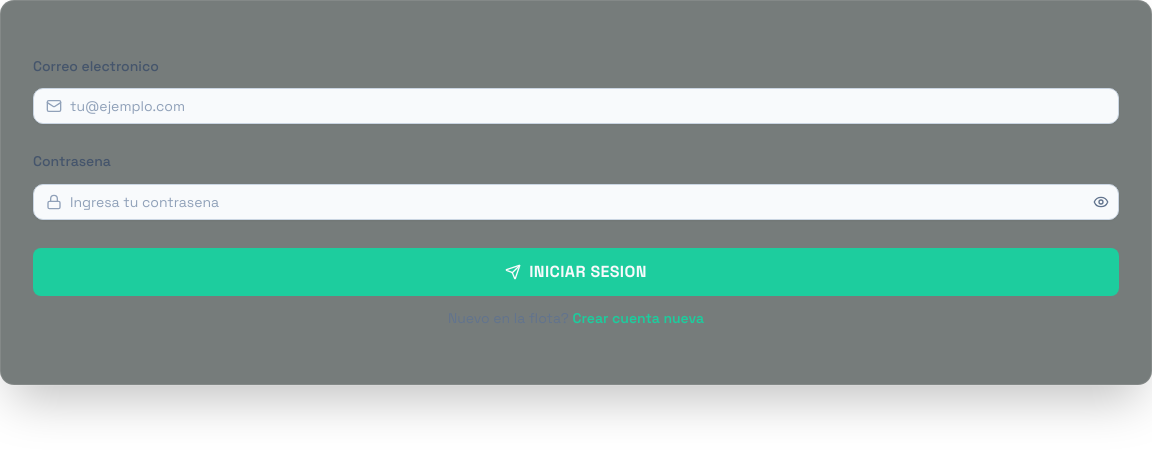
SignInForm › shows a validation message for an invalid email on blur
This screenshot has width=1152, height=470.
Type "invalid-email" into the field labelled "Correo electronico" at (590, 106), box [62,88,1118,124]
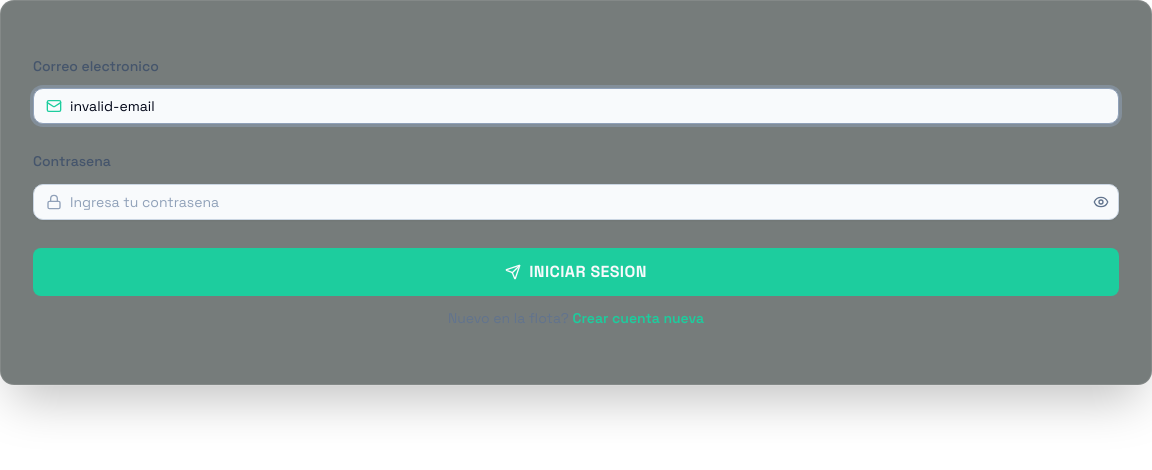
Press Tab
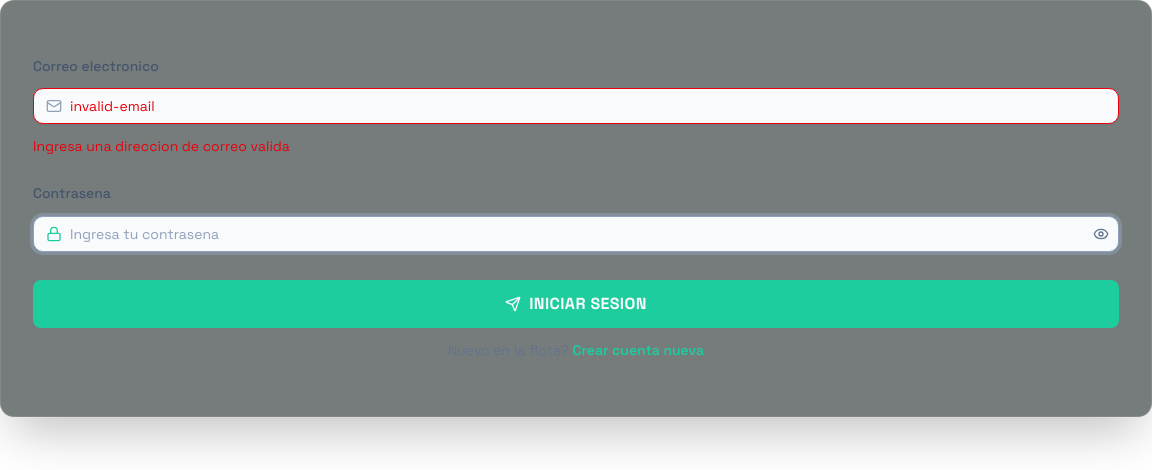
Now the message reads "Ingresa una direccion de correo valida", box [33,137,290,155]
